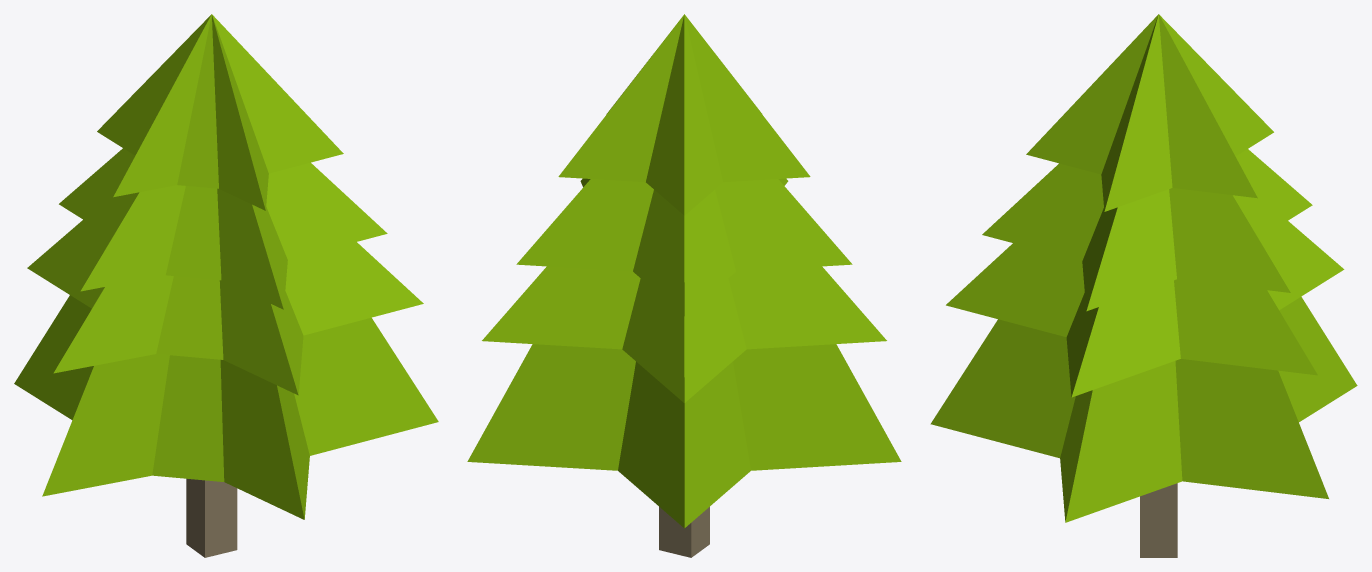
The model's file is tree_pine_star_5.fbx.
3 views of the same model, side by side, from view 1: azimuth 30°, elevation 25°; view 2: azimuth 150°, elevation 25°; view 3: azimuth 270°, elevation 25° (orthographic).
Parts seen in each view (by area): view 1: tree_pine_star_5; view 2: tree_pine_star_5; view 3: tree_pine_star_5.
Part boxes in pixels (<box>): tree_pine_star_5: <box>14,14,438,557</box>; tree_pine_star_5: <box>467,14,901,557</box>; tree_pine_star_5: <box>930,14,1357,557</box>.
Size of the model in its own units: 142 by 194 by 140.
